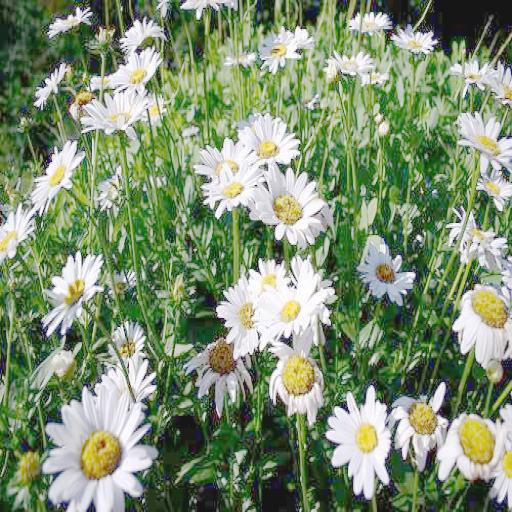daisy: (49, 389, 147, 512), (326, 382, 391, 503), (260, 161, 328, 252), (44, 254, 104, 327), (456, 275, 512, 350), (440, 411, 498, 482), (222, 273, 270, 358), (80, 84, 150, 140), (34, 138, 80, 215), (241, 117, 298, 171)
